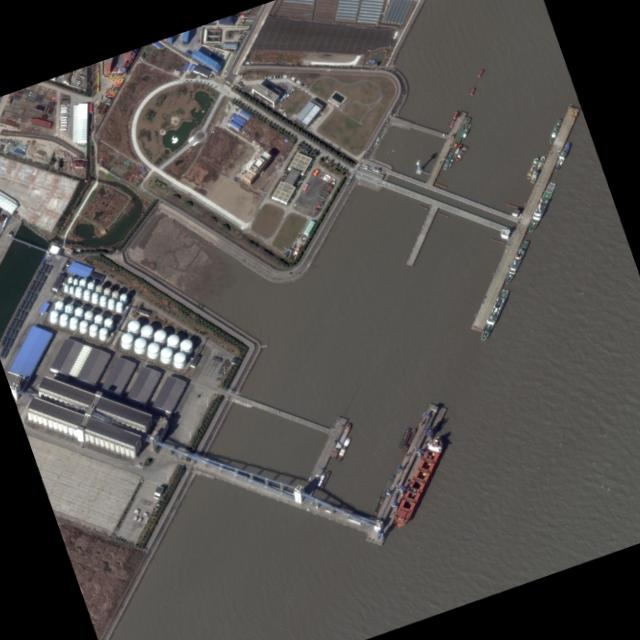ship: (389, 435, 448, 532), (525, 182, 556, 234), (479, 289, 509, 342), (503, 240, 529, 286), (329, 423, 352, 459), (450, 117, 470, 150), (552, 142, 571, 172), (334, 436, 352, 463), (529, 156, 546, 184), (401, 429, 417, 454), (547, 119, 562, 145), (397, 428, 412, 450), (380, 476, 395, 498), (525, 158, 539, 180), (319, 471, 331, 490), (460, 124, 471, 142), (442, 153, 453, 171), (455, 146, 467, 162), (315, 472, 326, 489), (373, 498, 384, 515), (370, 497, 381, 513), (452, 145, 462, 159), (476, 69, 485, 79), (468, 86, 476, 96), (447, 158, 454, 169), (448, 120, 456, 129), (452, 110, 459, 120)
storage-tank: (132, 336, 147, 351), (165, 333, 180, 348), (158, 346, 173, 360), (145, 341, 160, 355), (139, 324, 154, 338), (152, 329, 167, 343), (172, 351, 186, 365), (179, 338, 193, 352), (126, 319, 140, 333), (119, 332, 134, 345), (82, 310, 94, 320), (63, 303, 74, 313), (73, 306, 84, 316), (88, 323, 99, 333), (68, 316, 78, 326), (78, 320, 88, 330), (103, 317, 113, 327), (98, 327, 108, 337), (58, 313, 69, 322), (93, 314, 103, 323), (54, 300, 64, 309), (49, 310, 59, 319), (94, 284, 103, 292), (90, 292, 99, 300), (102, 287, 111, 295), (78, 278, 86, 286), (86, 281, 94, 289), (82, 289, 90, 297), (111, 290, 119, 298), (115, 301, 123, 309), (74, 286, 82, 293), (99, 295, 107, 302), (107, 298, 115, 305), (119, 293, 127, 300), (67, 276, 73, 281), (68, 286, 74, 291), (72, 278, 78, 283), (63, 284, 68, 289)
